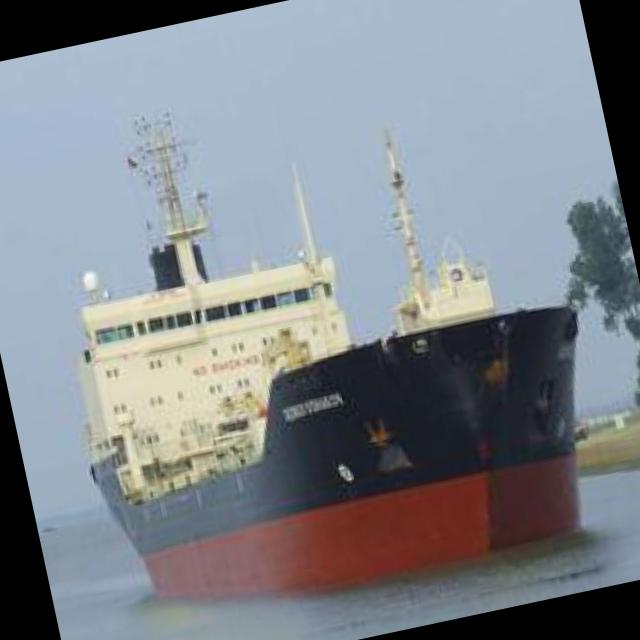boat: (12, 28, 630, 634)
